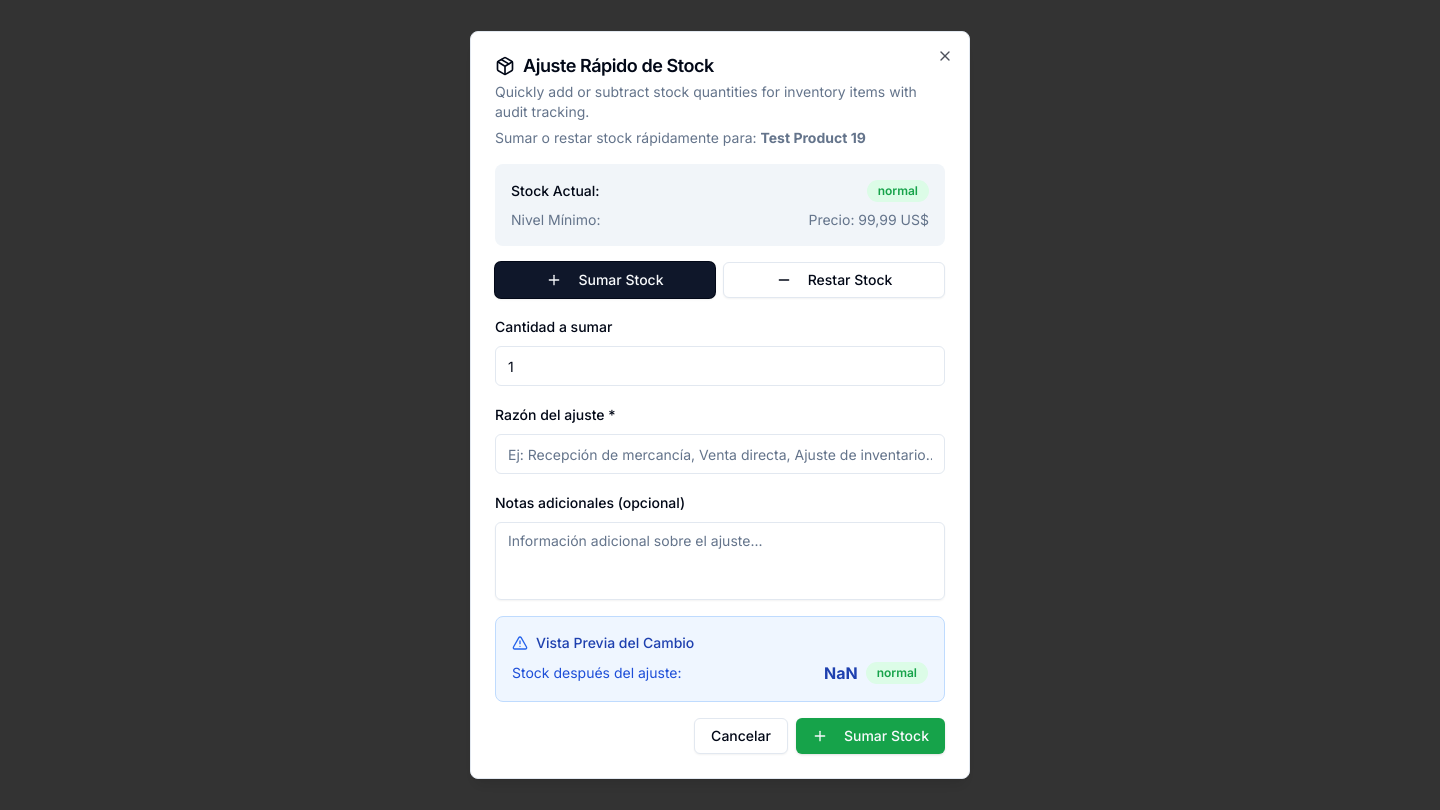
QuickStockOperations › shows projected stock preview for add operation
Clear the number field labelled "Cantidad a sumar" at [720, 366], box x1=495 y1=346 x2=945 y2=386
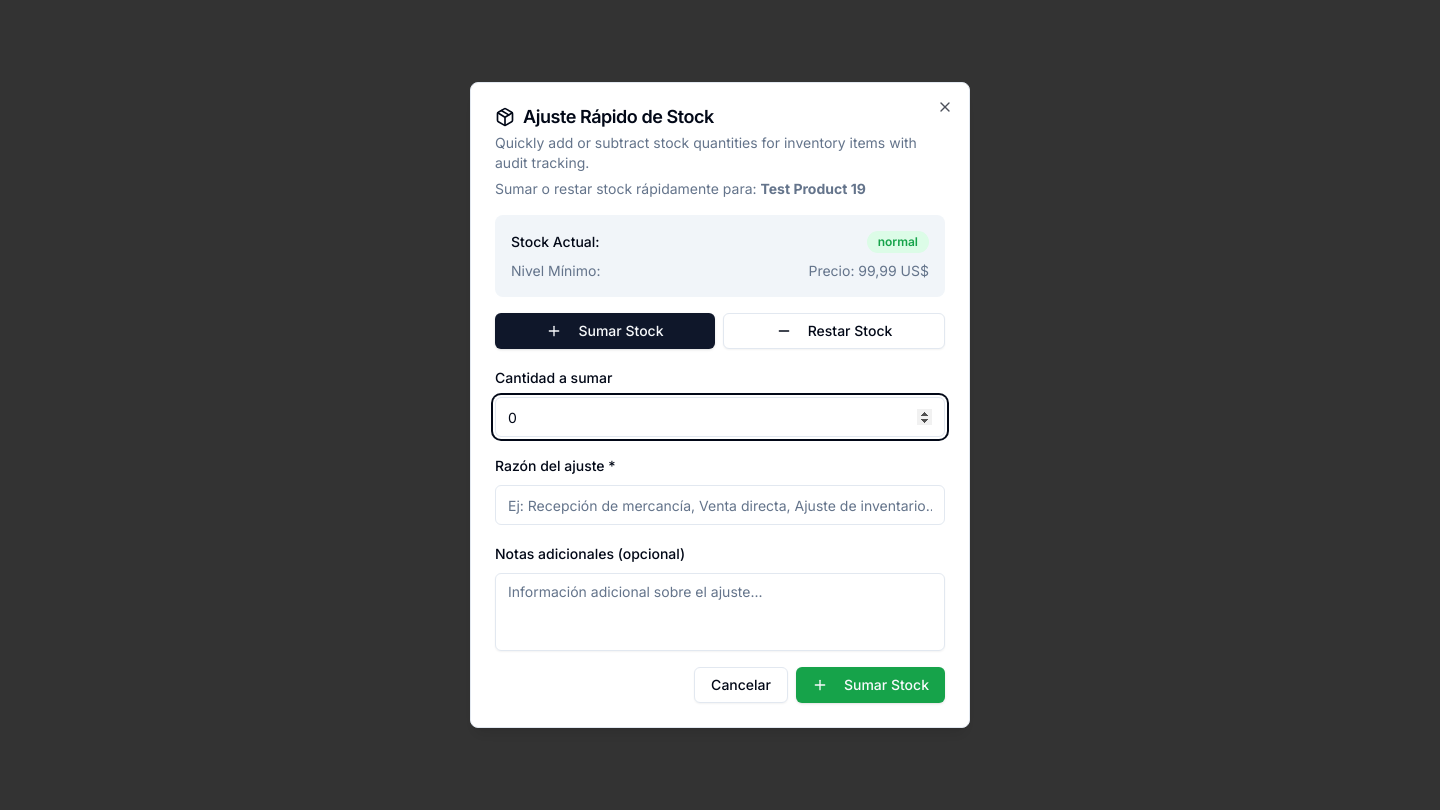
Type "5" into the number field labelled "Cantidad a sumar" at [720, 417], box x1=495 y1=397 x2=945 y2=437
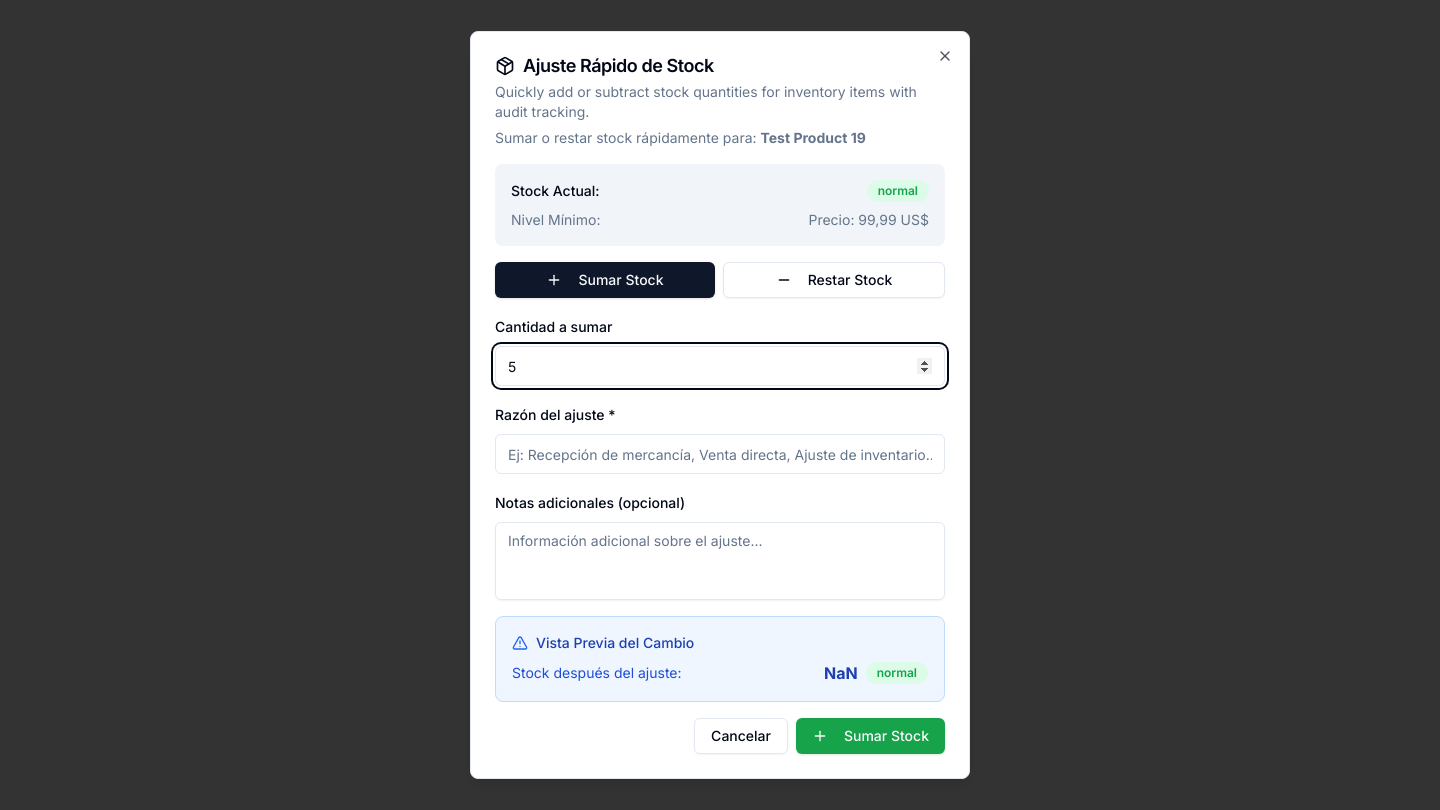
Result: the text "Vista Previa del Cambio" is shown at x1=536 y1=633 x2=694 y2=653
Result: the text "Stock después del ajuste:" is shown at x1=512 y1=663 x2=682 y2=683
Result: the text "NaN" is shown at x1=824 y1=661 x2=858 y2=685
